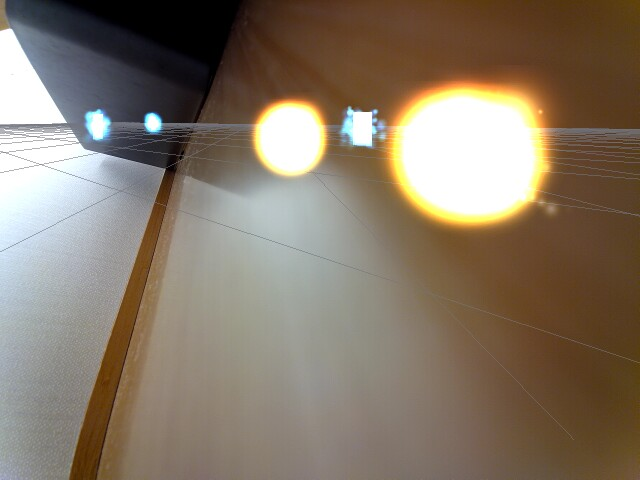fire: (391, 84, 542, 229), (253, 101, 324, 169)
